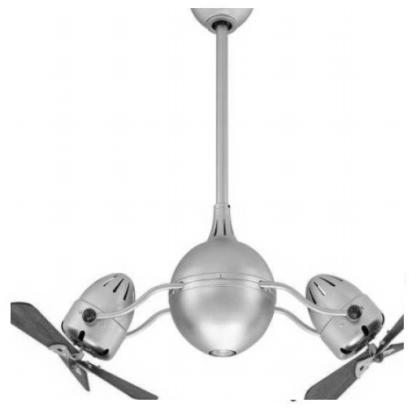ceiling-fan: (11, 8, 404, 401)
